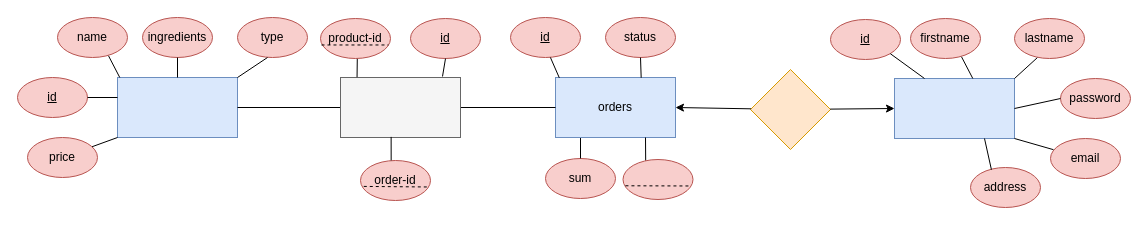
This 1148x225 diagram has some shape labels left out. The centre of each missing label's shape, as x and y in pixels:
contain: the point at 400,107
order: the point at 790,109
product: the point at 177,107
user-id: the point at 657,179
users: the point at 954,108
